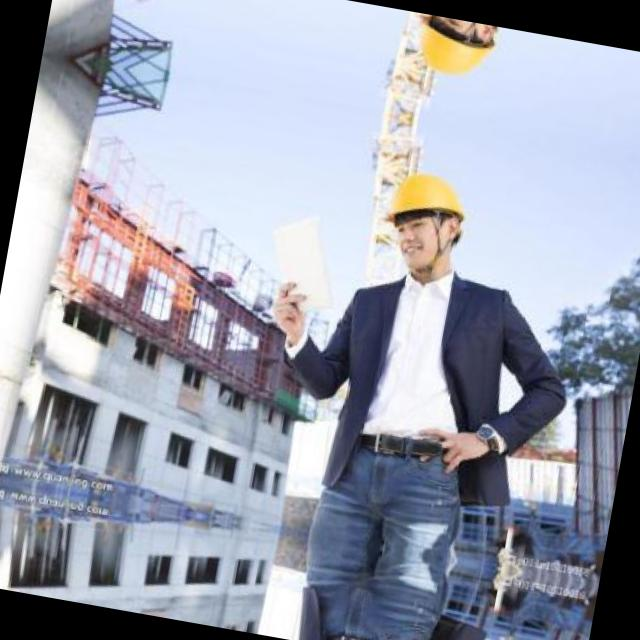helmet: (365, 148, 473, 288), (398, 11, 498, 99)
